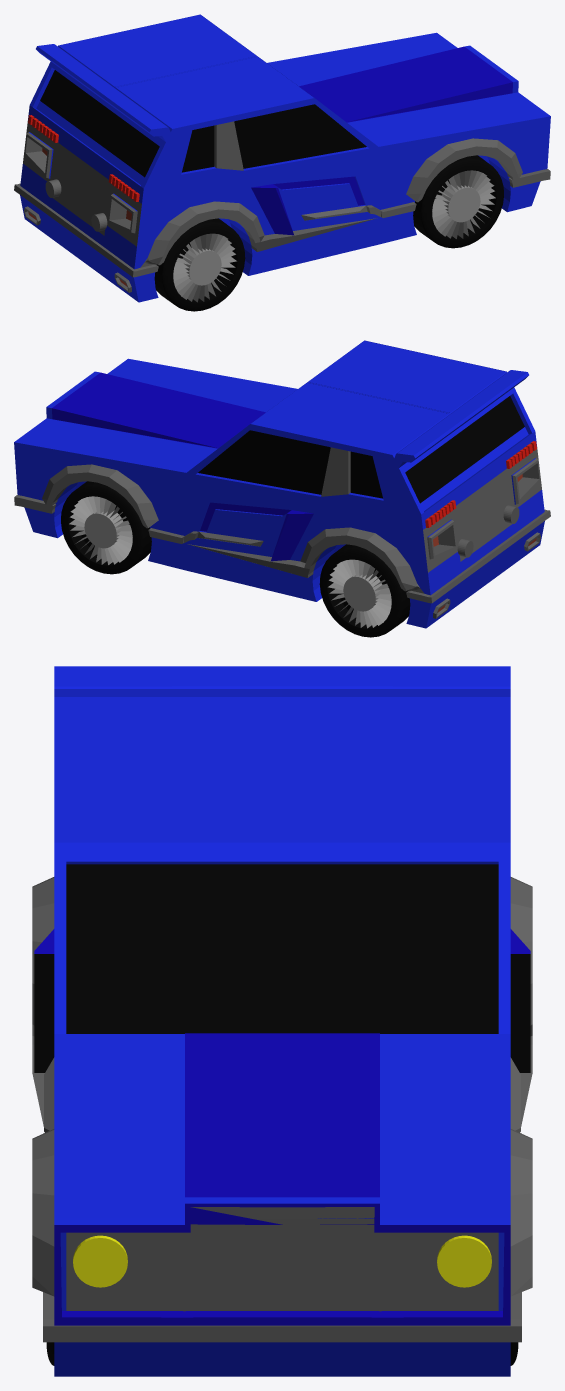
The model's file is car6.fbx.
3 views of the same model, one above another, from view 1: azimuth 30°, elevation 25°; view 2: azimuth 150°, elevation 25°; view 3: azimuth 270°, elevation 25° (orthographic). The views are drawn at different scales.
Visible parts, largest first — view 1: Cube.003; view 2: Cube.003; view 3: Cube.003.
Boxes of the visible parts, bbox=[...] form: Cube.003: bbox=[14, 14, 550, 311]; Cube.003: bbox=[14, 340, 550, 637]; Cube.003: bbox=[32, 666, 532, 1376].
Bounding box in the file's own units: 8.88 × 4.56 × 3.89.
